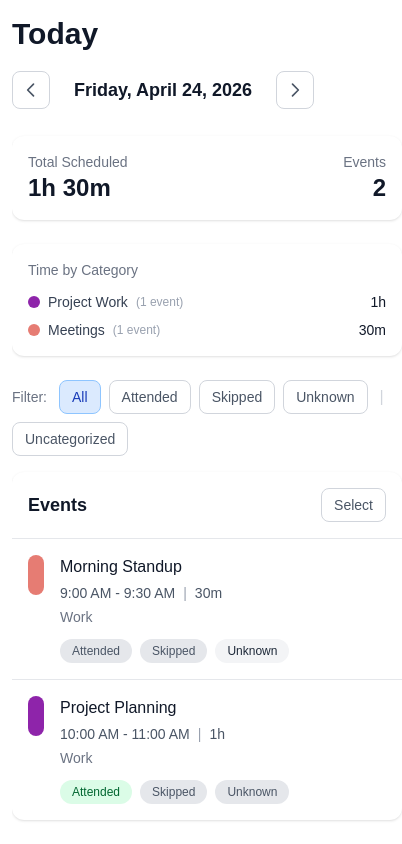
Test: DayView › selection mode › shows selection count in header
This screenshot has width=402, height=844.
Expected: the heading "Morning Standup" is shown, [60, 558, 182, 575]
What coordinates should you click on to do the following:
click the button "Select"
I would click on:
 (354, 505)
Its box is [321, 488, 386, 522].
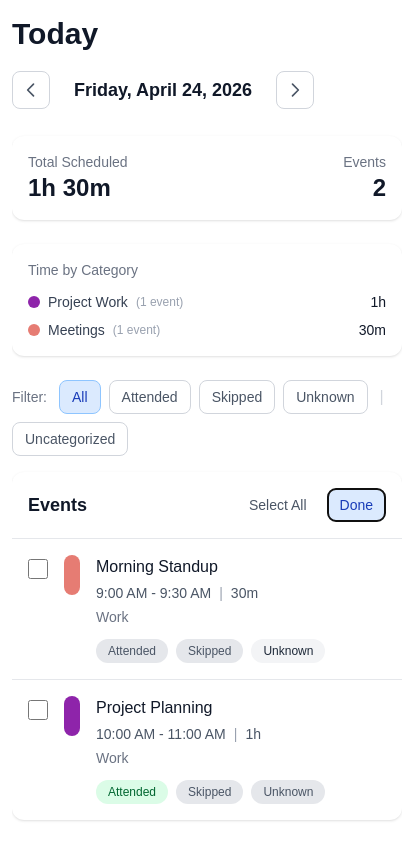
What coordinates should you click on to do the following:
click the checkbox next to "Morning Standup"
I would click on:
 (38, 569)
Its box is [28, 559, 48, 579].
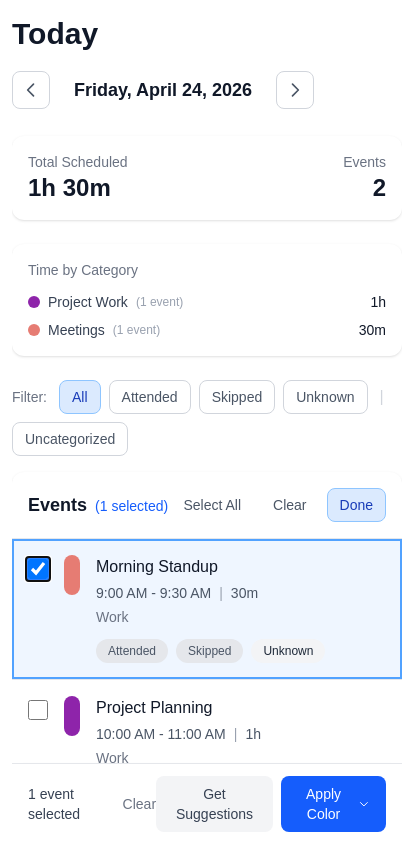
Expected: the text "(1 selected)" is shown, [95, 498, 168, 514]
